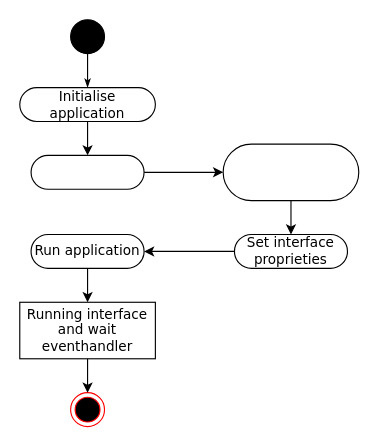
The diagram is 379 pixels wide and 446 high, and some of its shapes have lost their labels. Each missing label, with the centre of its shape:
Instantiate an interface: [87,171]
Set every components of interface: [290,172]
